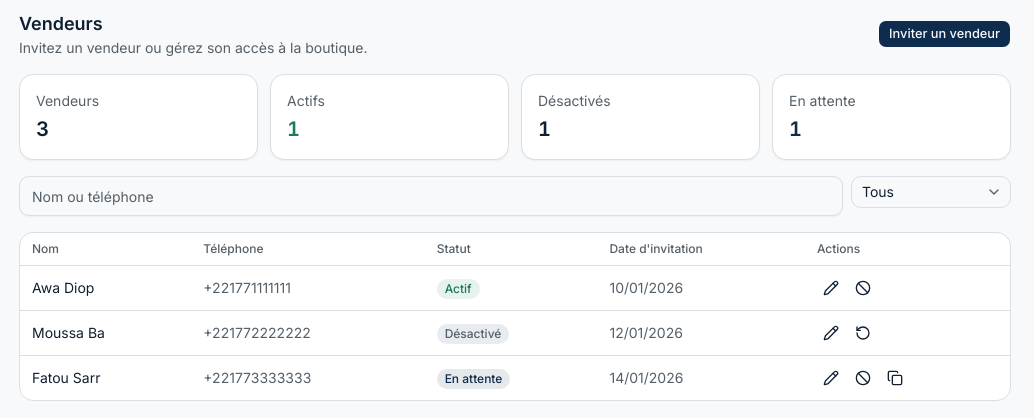
Scenario: VendeursPanel › filtre la liste par recherche (nom/téléphone) et par statut
Expected: the text "Awa Diop" is shown, [20,266,191,310]
Expected: the text "Moussa Ba" is shown, [20,310,191,356]
Type "Awa" into the field with placeholder "Nom ou téléphone".
click(431, 196); type("Awa")  # box [19,176,843,216]
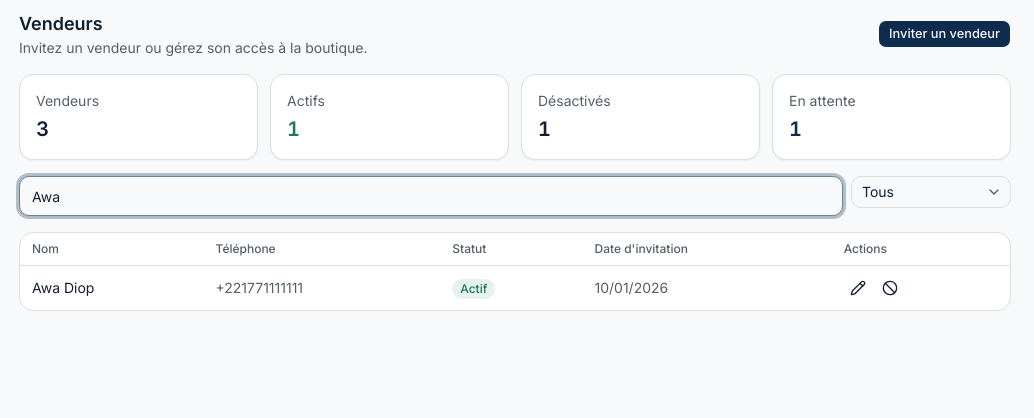
Expected: the text "Awa Diop" is shown, [20,266,204,310]
Result: the text "Moussa Ba" is gone
Result: the text "Fatou Sarr" is gone
Note: Recherche par téléphone.
Replace the text in the field with placeholder "Nom ou téléphone" with "772222222" at (431, 196), box [19,176,843,216]
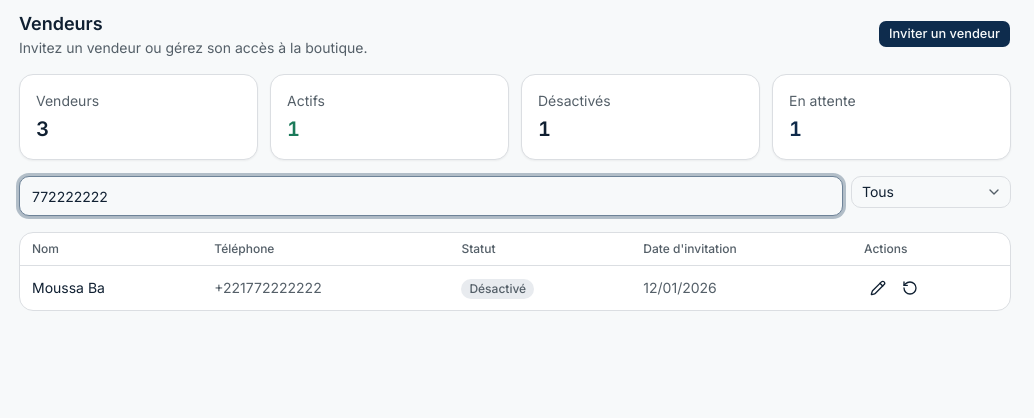
Result: the text "Moussa Ba" is shown at [20,266,202,310]
Result: the text "Awa Diop" is gone
Clear the field with placeholder "Nom ou téléphone" at (431, 196), box [19,176,843,216]
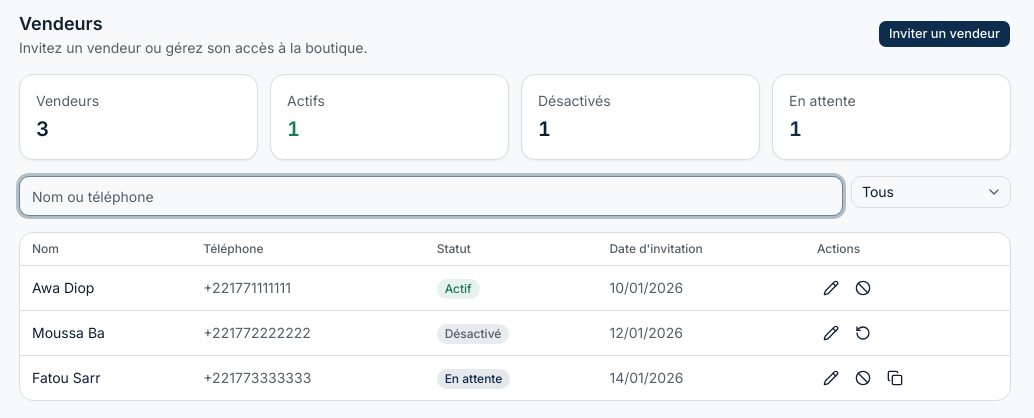
Click the dropdown.
click(931, 192)  # box [851,176,1011,208]
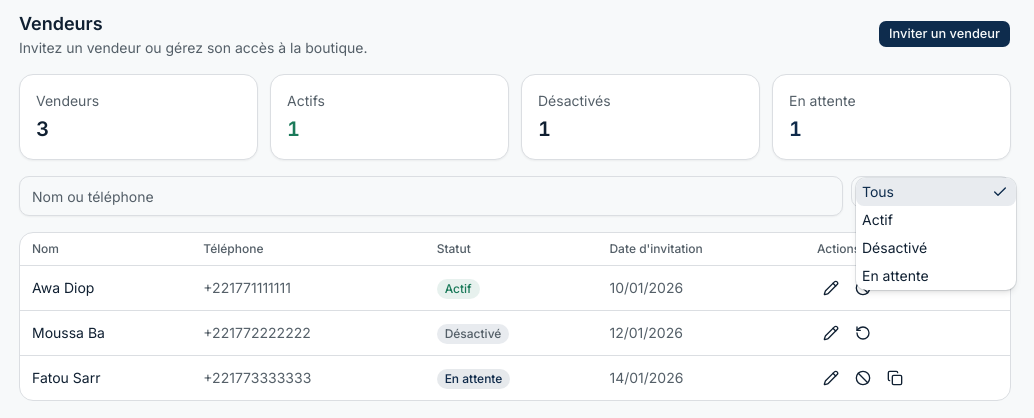
Click the option "En attente".
click(895, 276)  # box [862,267,929,284]
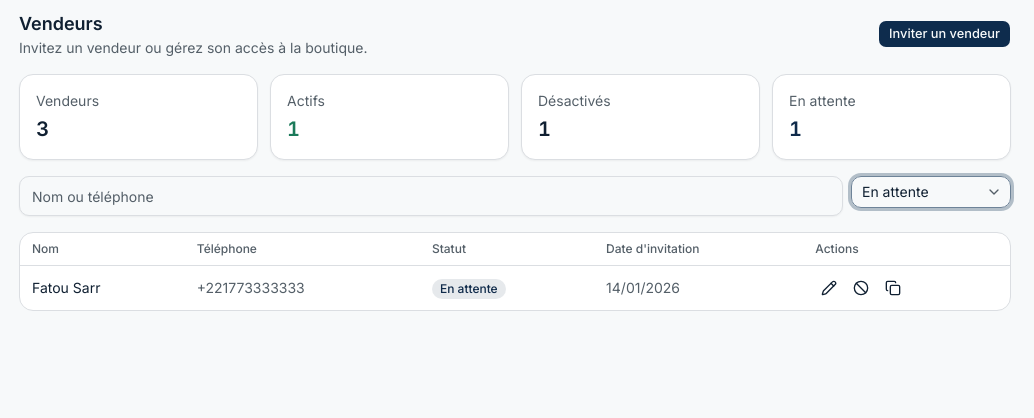
Result: the text "Fatou Sarr" is shown at [20,266,185,310]
Result: the text "Awa Diop" is gone
Result: the text "Moussa Ba" is gone
